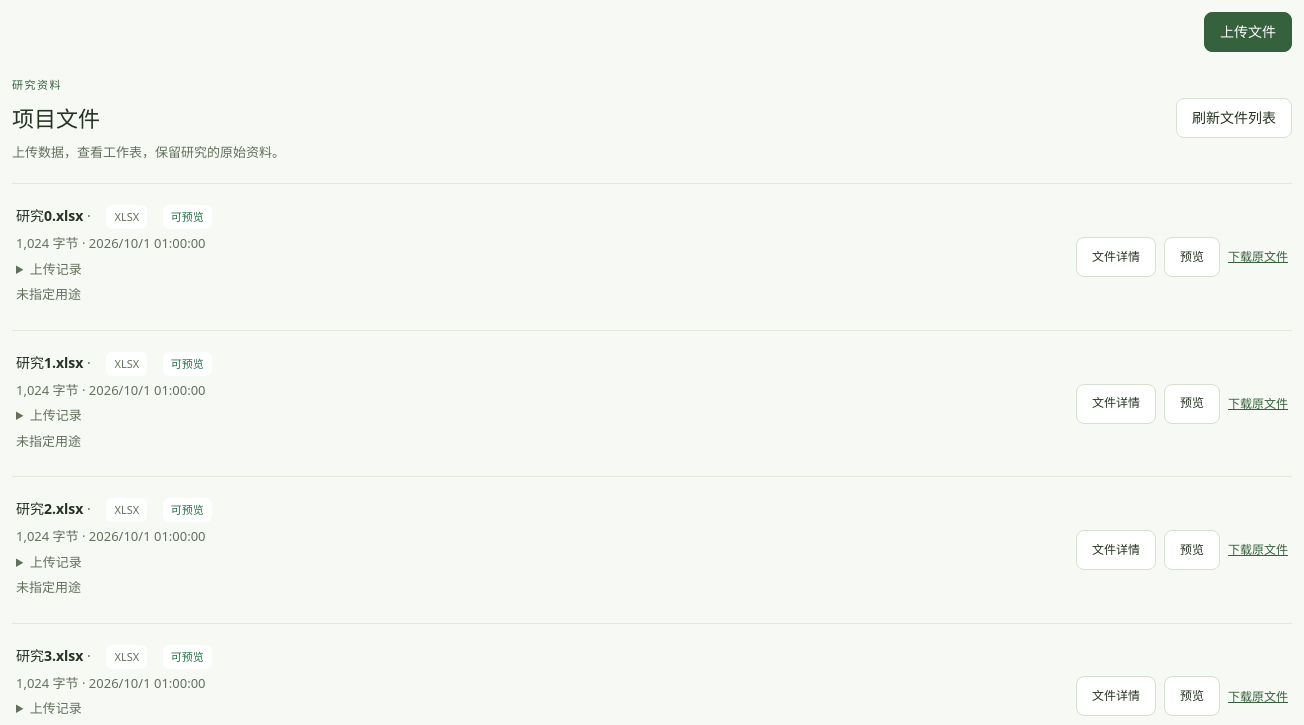
Test: purpose timeout keeps draft, offers reread and guards duplicate submission synchronously
Click the 1st button "文件详情" at (1116, 257), box x1=1076 y1=237 x2=1156 y2=277
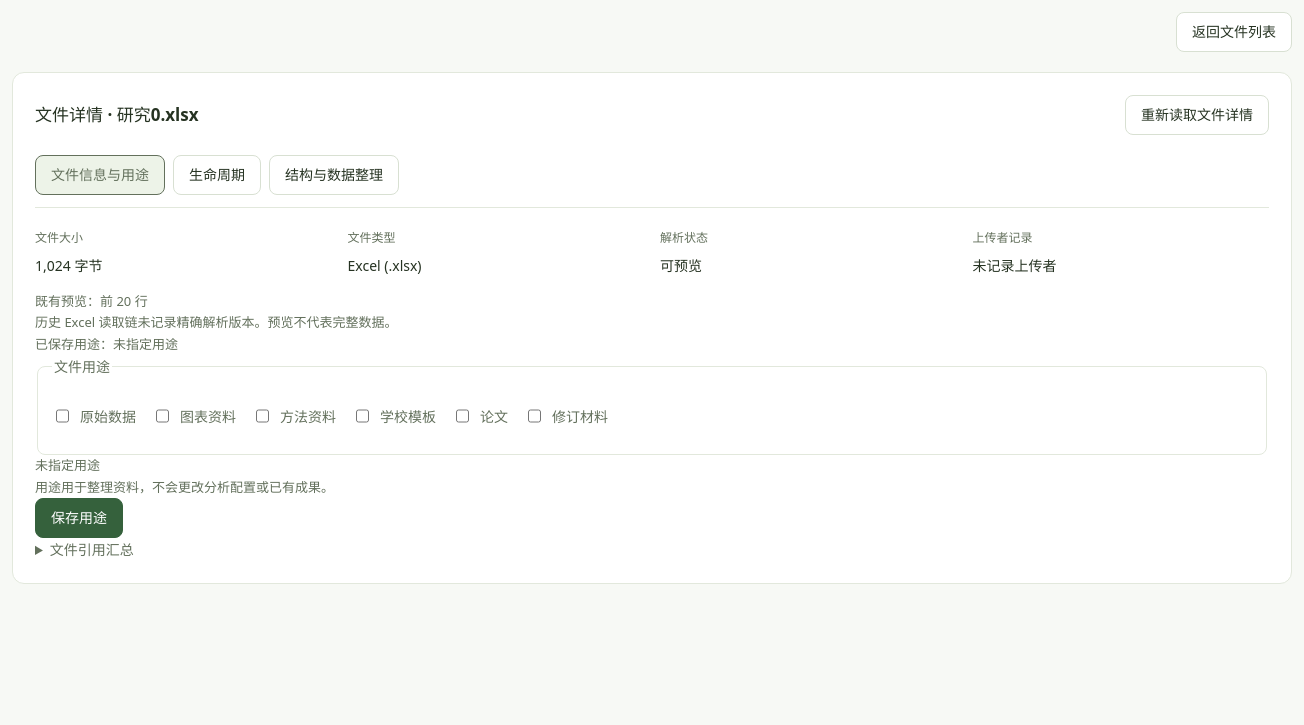
Click the checkbox labelled "原始数据" at (62, 416), box x1=56 y1=395 x2=69 y2=437
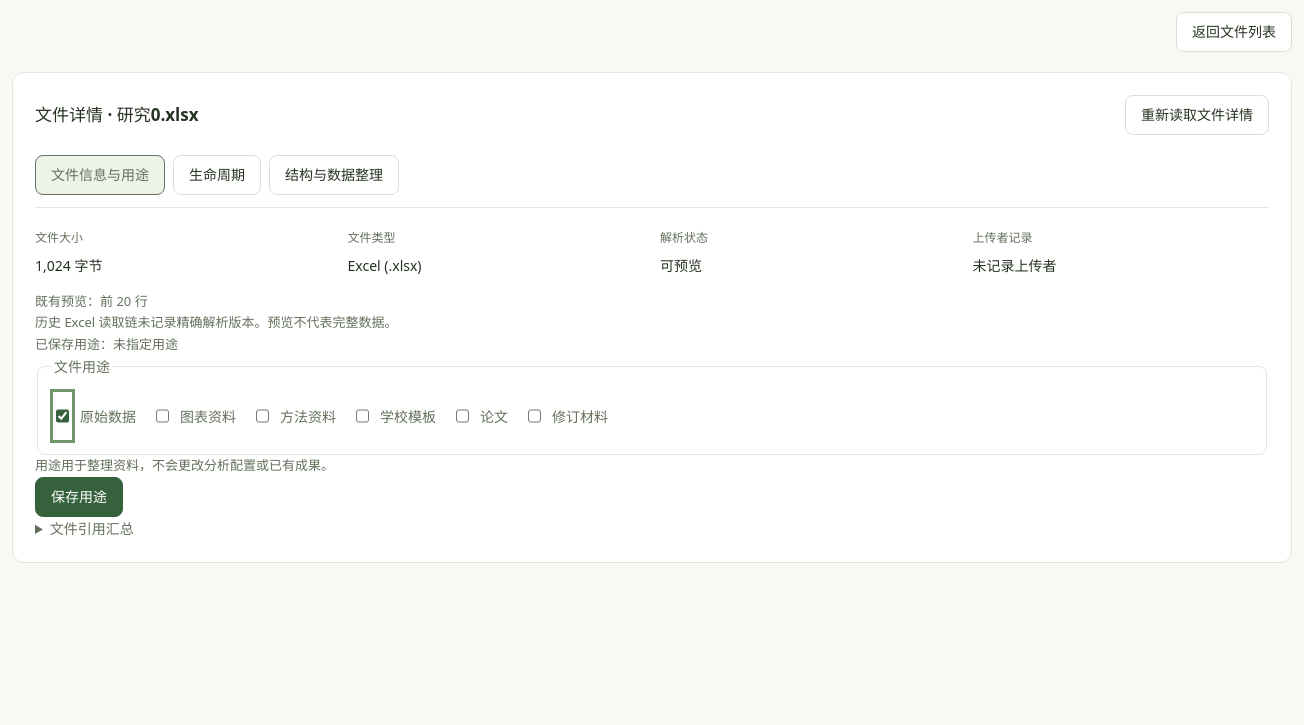
Submit the form "保存用途", box x1=35 y1=355 x2=1269 y2=517
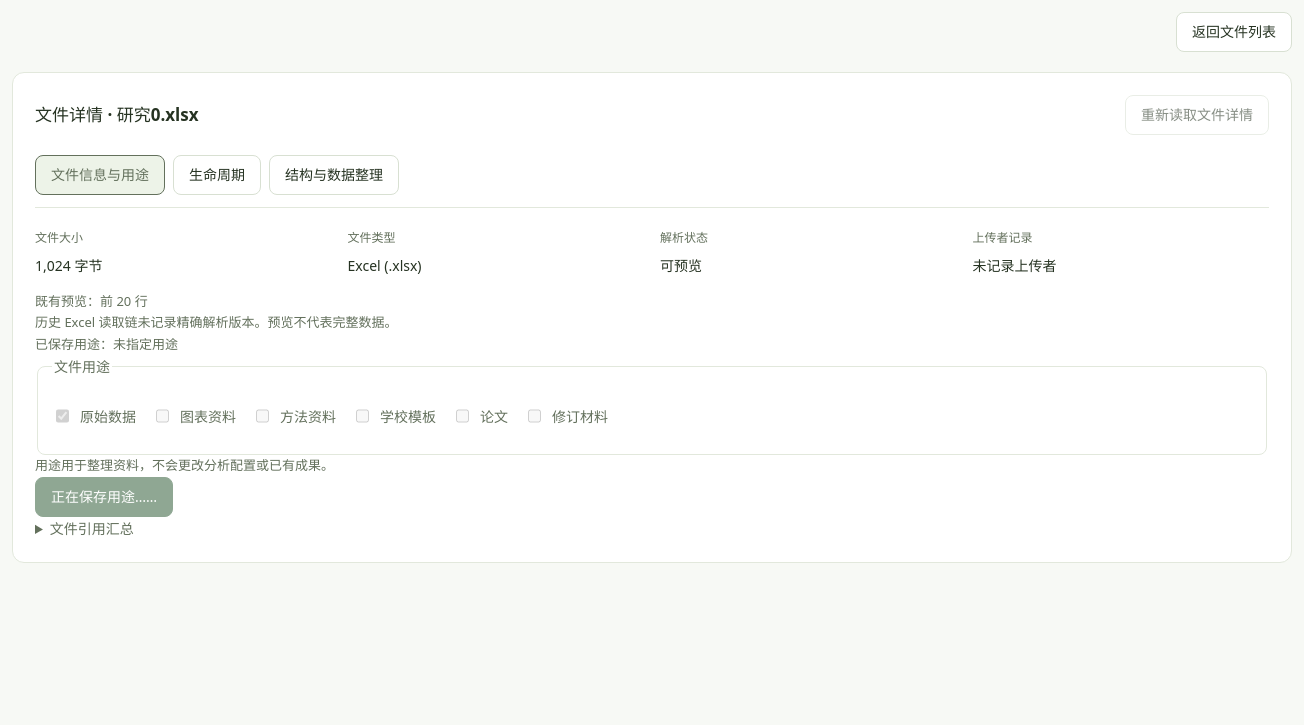
Submit the form "保存用途", box x1=35 y1=355 x2=1269 y2=517
Wait 15000 ms
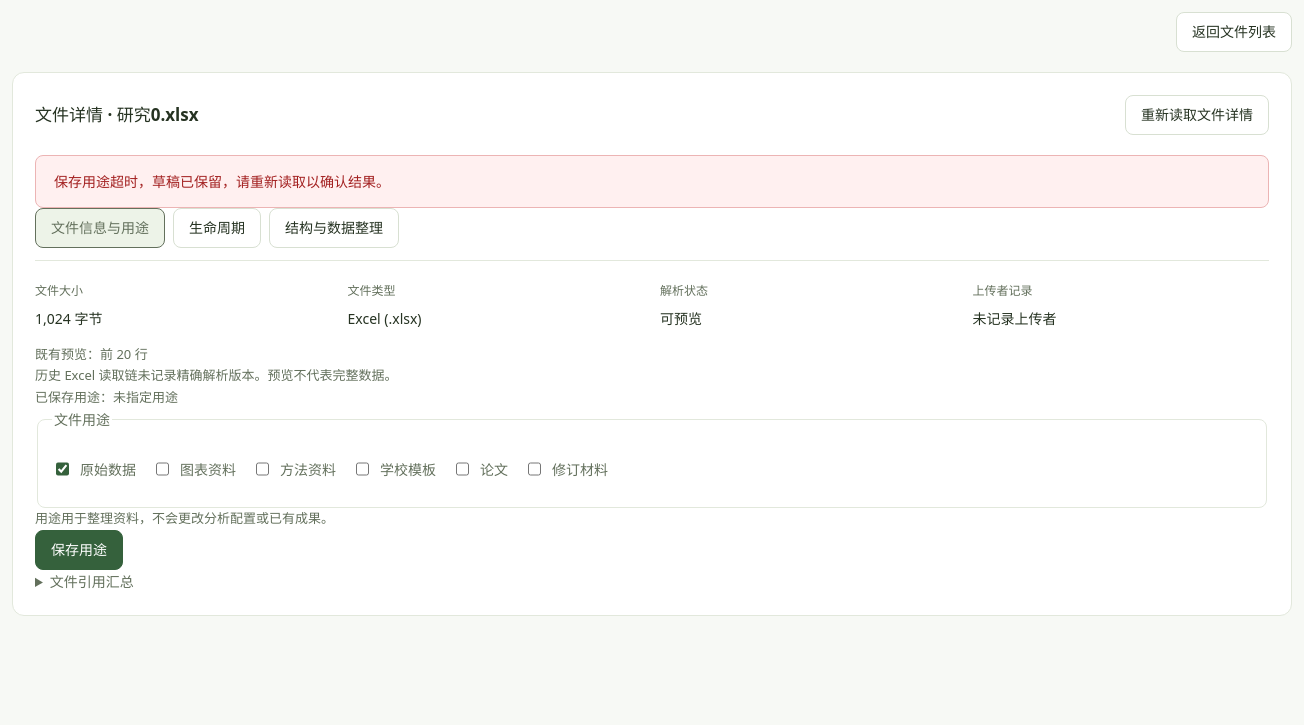
Result: the checkbox labelled "原始数据" is checked at x1=56 y1=448 x2=69 y2=490
Result: the button "重新读取文件详情" is shown at x1=1125 y1=95 x2=1269 y2=135
Result: the message shows "保存用途超时" at x1=54 y1=172 x2=390 y2=191
